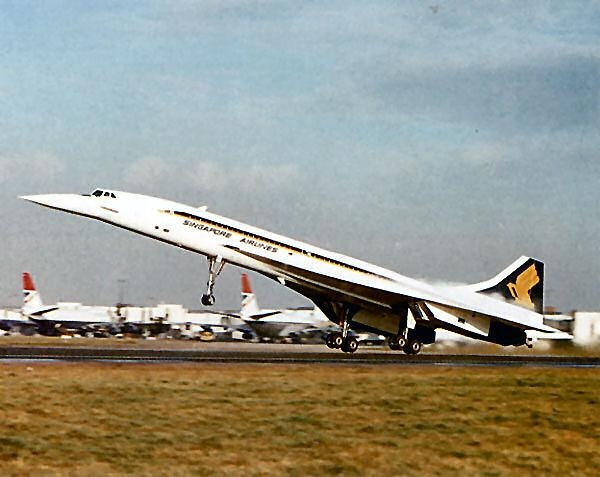airplane: (15, 180, 580, 365)
